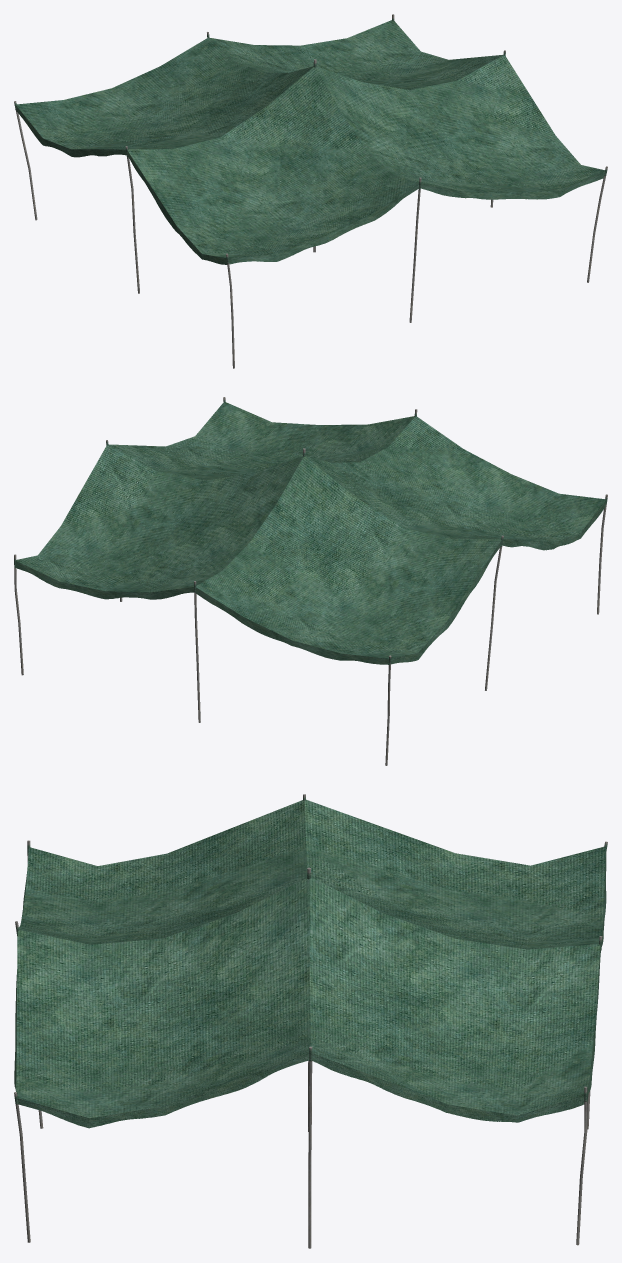
File: poi_nboo_tent_large_l0.fbx
3 views of the same model, one above another, from view 1: azimuth 30°, elevation 25°; view 2: azimuth 150°, elevation 25°; view 3: azimuth 270°, elevation 25° (orthographic). The views are drawn at different scales.
Parts seen in each view (by area): view 1: mesh_node; view 2: mesh_node; view 3: mesh_node.
Part boxes in pixels (x1,y1,x2,y2): mesh_node: (14,14,607,368); mesh_node: (14,397,607,765); mesh_node: (14,794,607,1248).
Size of the model in its own units: 10.9 by 5.21 by 10.65.
